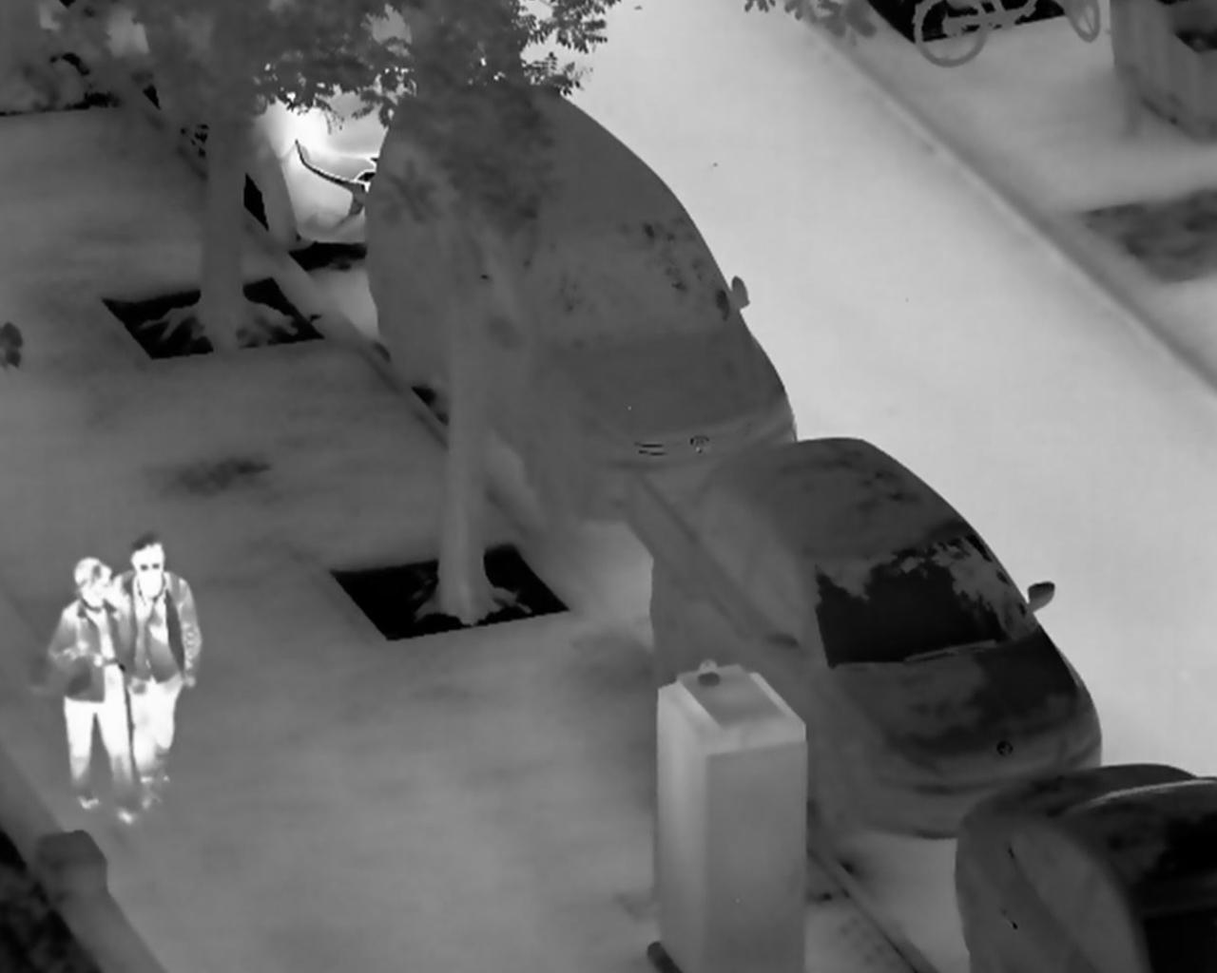person: (105, 530, 206, 808), (39, 556, 140, 828)
